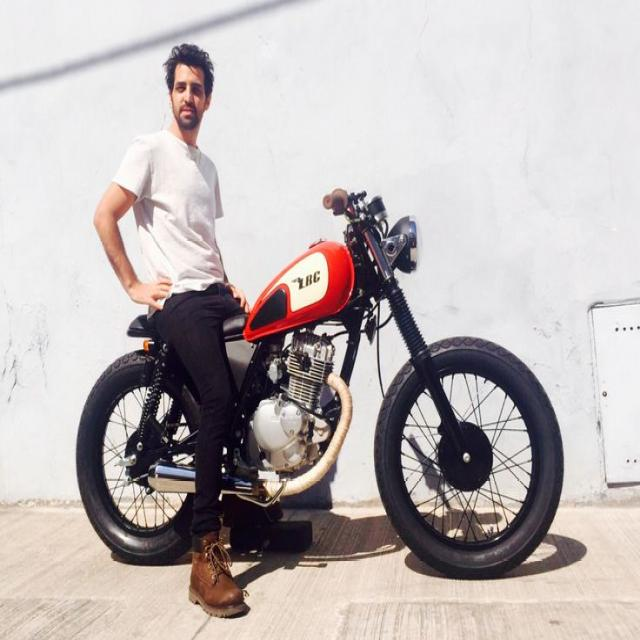Not Wearing Helmet: (147, 32, 251, 228)
